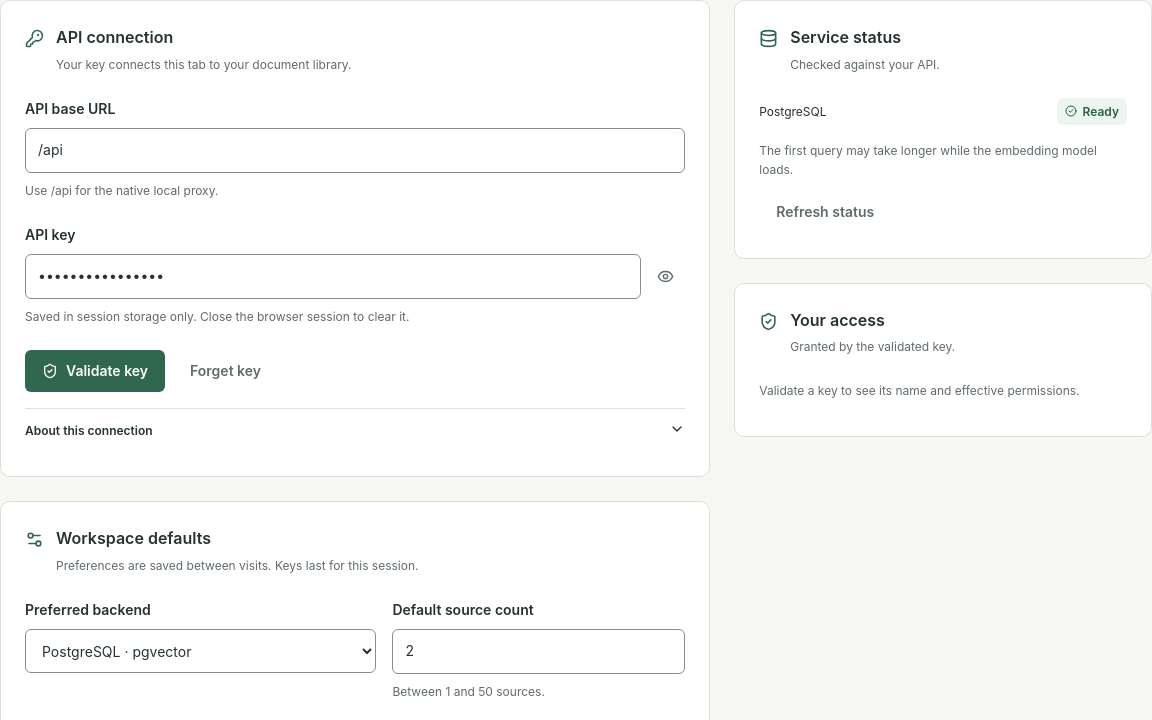
Test: Settings and scope flow › ignores a late 401 from a previous key after a new key validates
The width and height of the screenshot is (1152, 720).
Type "new-key-value" into the password field labelled "API key" at point(333, 276), box [25,254,641,298]
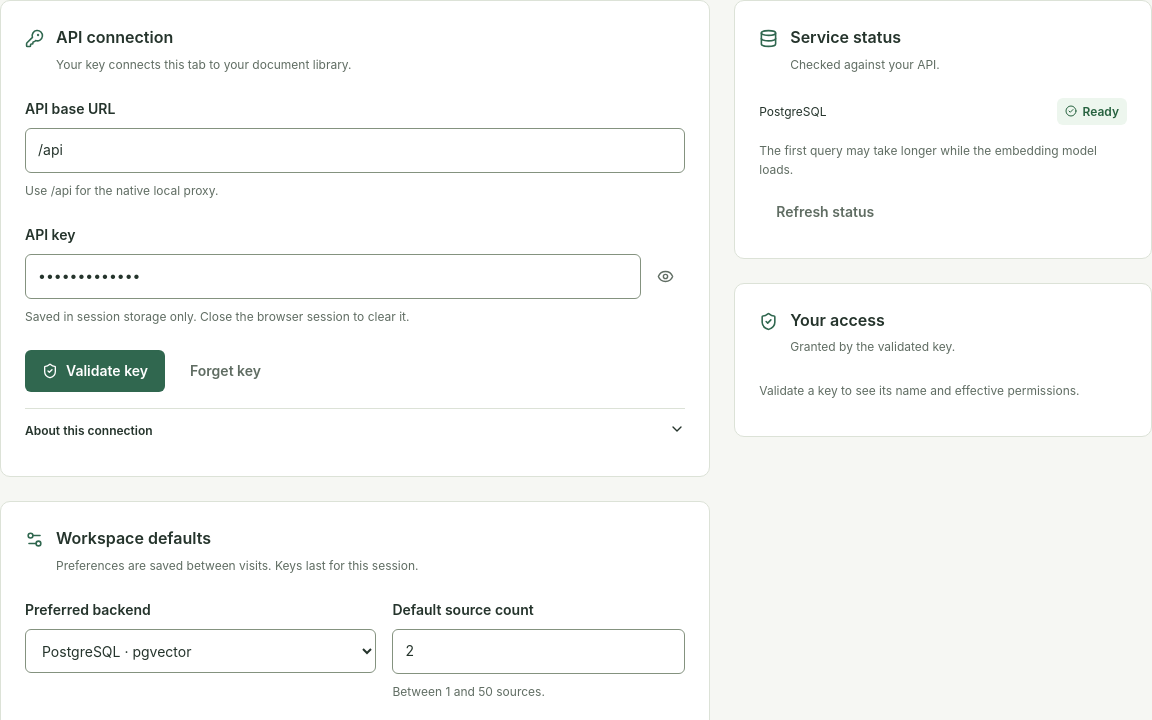
Submit the form named "Validate key", box [25,98,685,392]
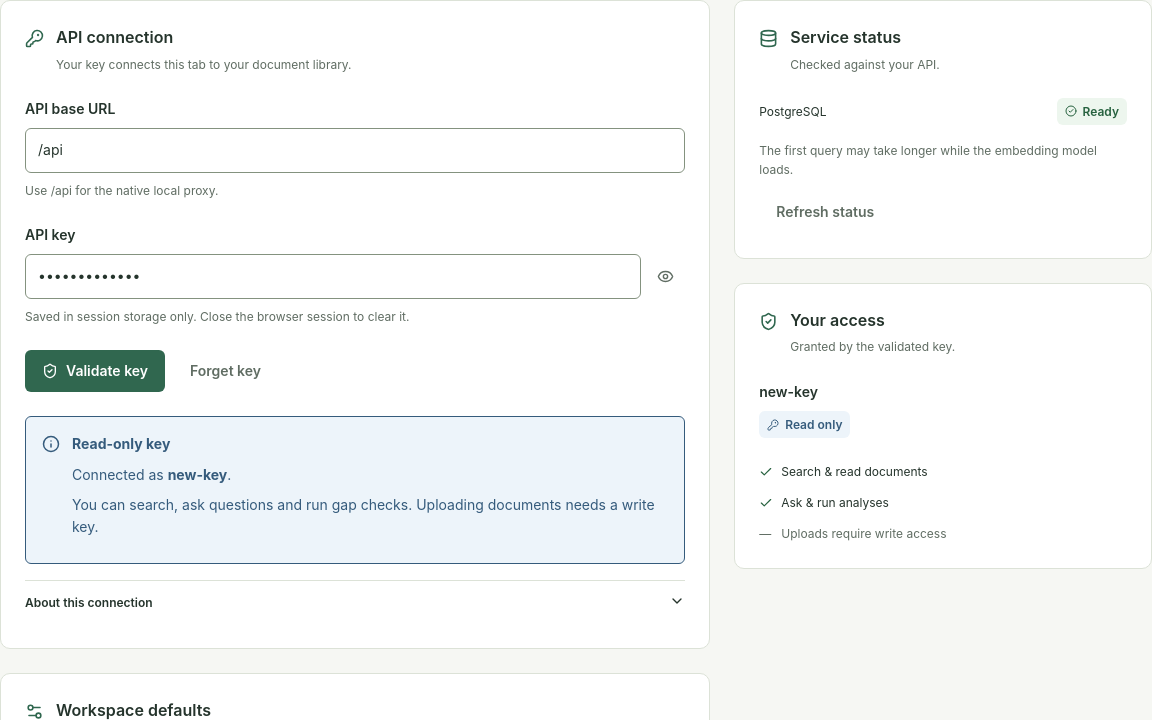
Now the text "Read-only key" is shown, box [72,435,170,452]
